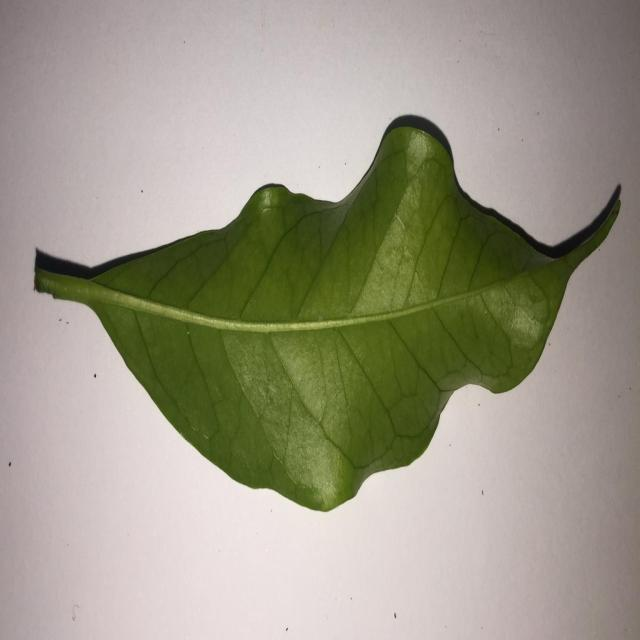nodisease: (35, 116, 621, 511)
